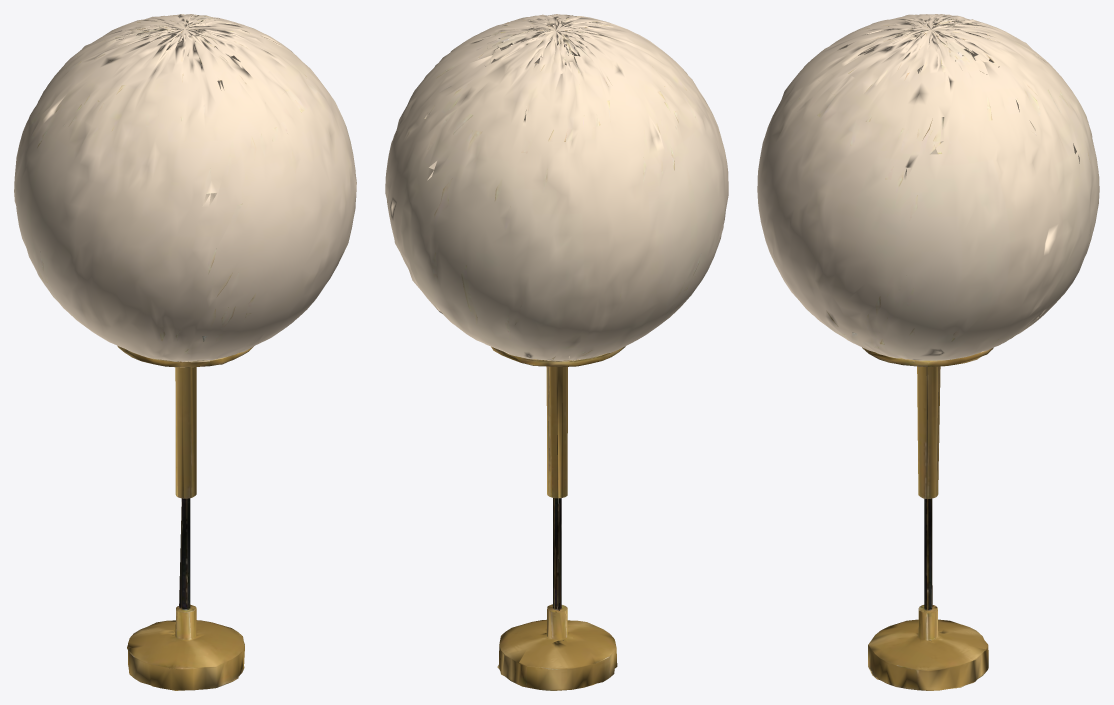
File: globe_lamp.glb
3 renders of one model, left to right at view 1: azimuth 30°, elevation 25°; view 2: azimuth 150°, elevation 25°; view 3: azimuth 270°, elevation 25°, orthographic.
Parts seen in each view (by area): view 1: prop; view 2: prop; view 3: prop.
Part boxes in pixels (x1,y1,x2,y2): prop: (14,14,356,690); prop: (385,14,728,690); prop: (757,14,1099,690).
Bounding box in the file's own units: 0.7786 × 1.6 × 0.7794.
1 material, 1 textured.
